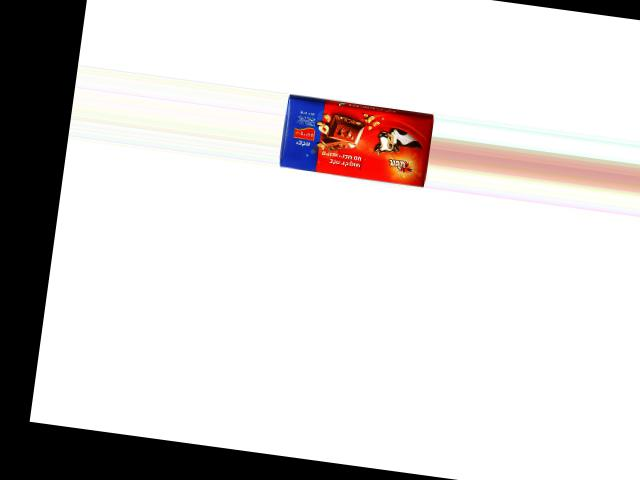chocolate: (280, 88, 435, 185)
